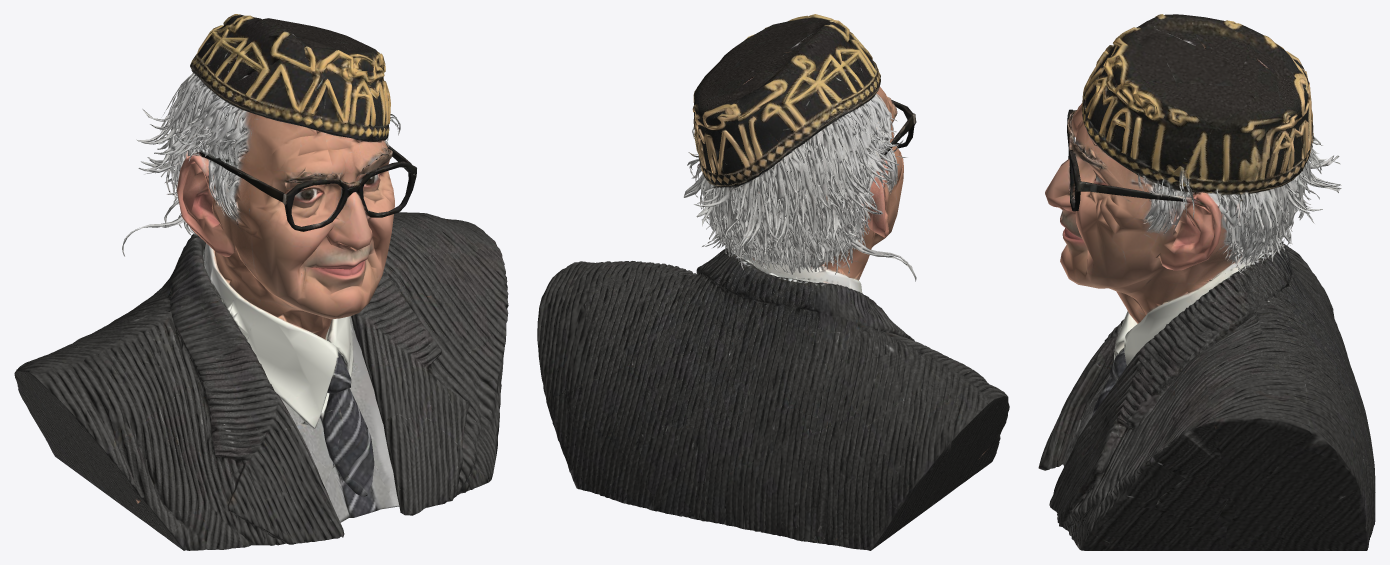
The model's file is jawahiri-mouth.glb.
The picture shows the model from 3 angles, left to right: view 1: azimuth 30°, elevation 25°; view 2: azimuth 150°, elevation 25°; view 3: azimuth 270°, elevation 25°; orthographic projection. The views are drawn at different scales.
Parts seen in each view (by area): view 1: character; view 2: character; view 3: character.
Boxes of the visible parts, left/top/right/bottom form: character: left=14, top=14, right=508, bottom=550; character: left=537, top=14, right=1009, bottom=550; character: left=1038, top=14, right=1375, bottom=550.
Size of the model in its own units: 1.9 by 1.83 by 1.23.
1 material, 1 textured.
